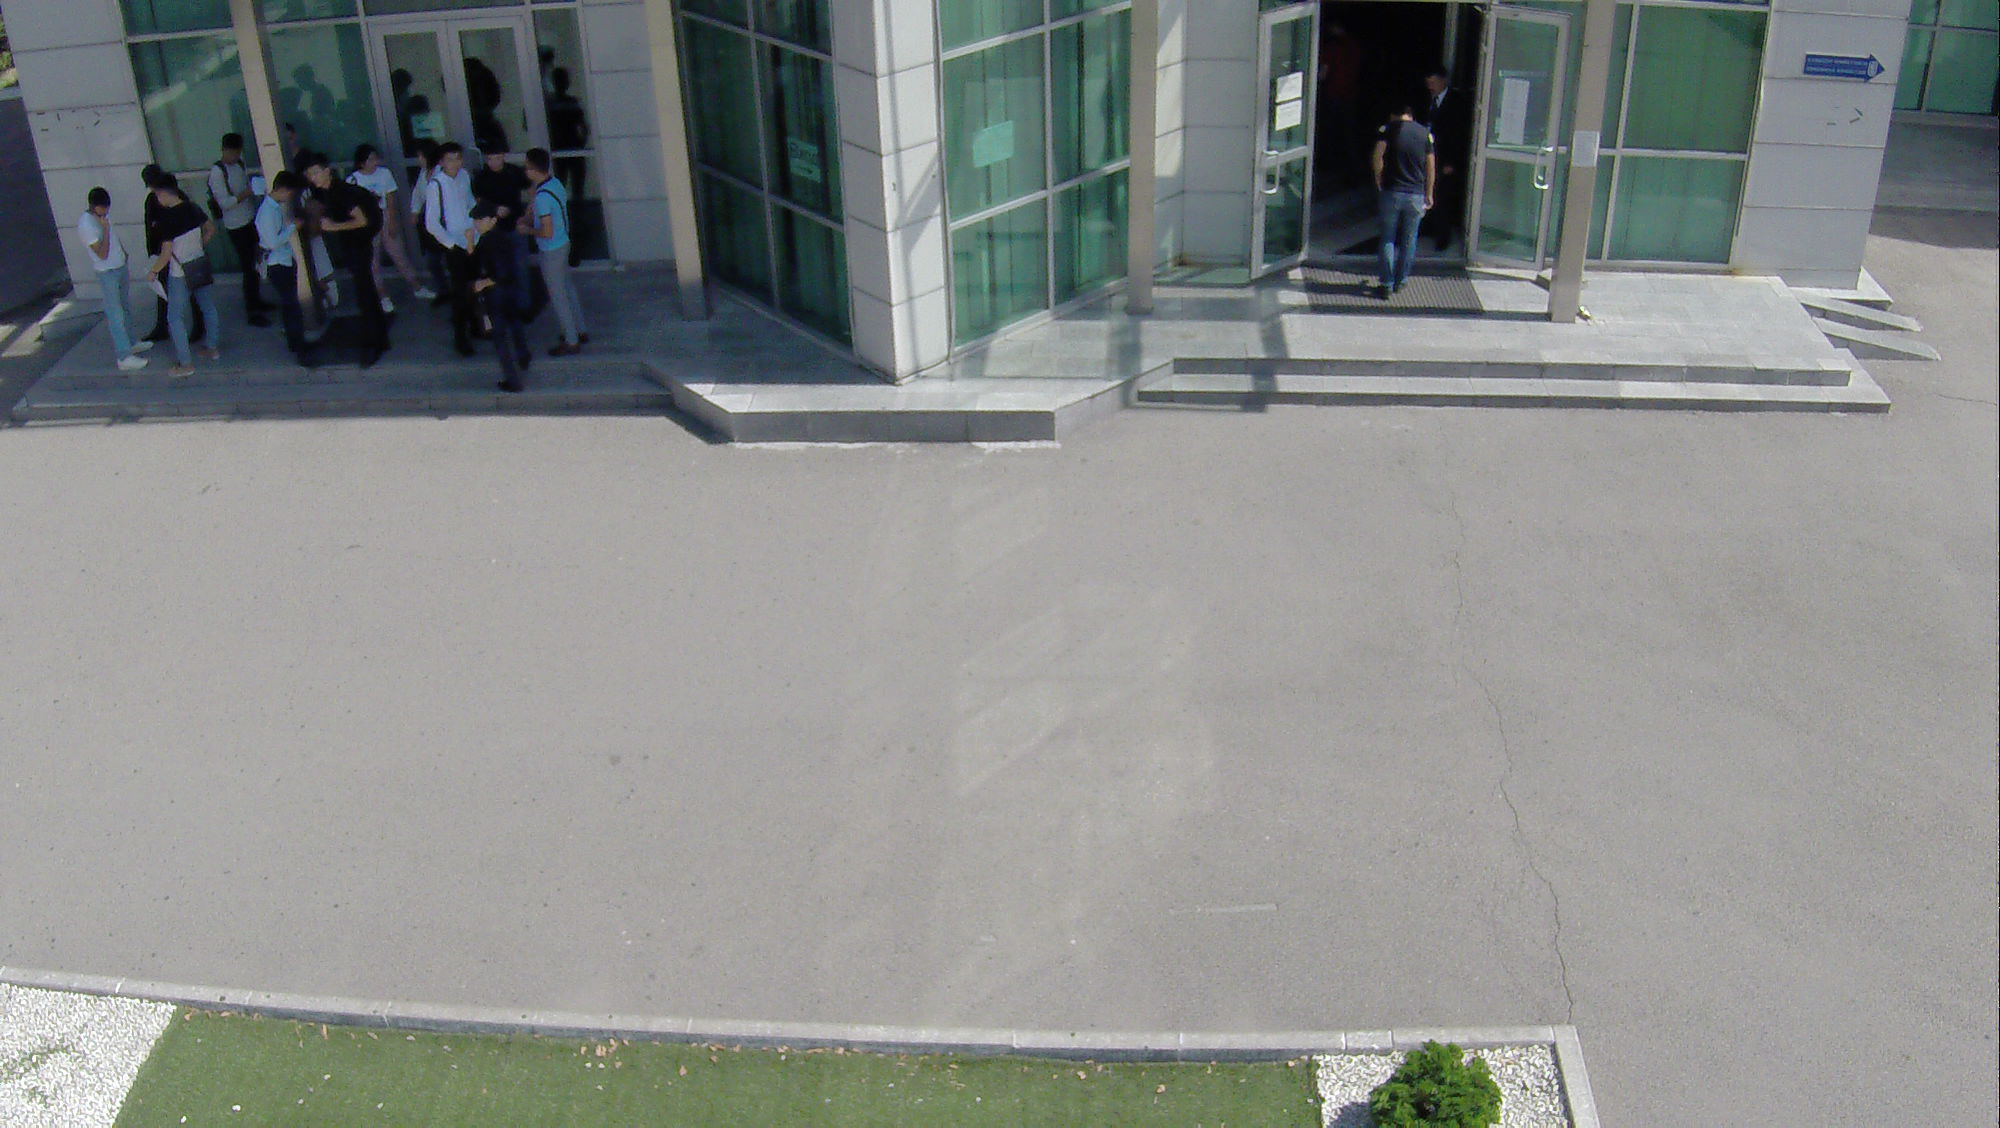person: (305, 149, 389, 372), (520, 142, 595, 360), (147, 177, 223, 381), (202, 129, 277, 333), (80, 183, 157, 379), (350, 131, 427, 315), (463, 201, 529, 397), (1357, 104, 1420, 300), (258, 170, 313, 372), (422, 141, 477, 337), (1416, 65, 1473, 253), (474, 136, 521, 210)
